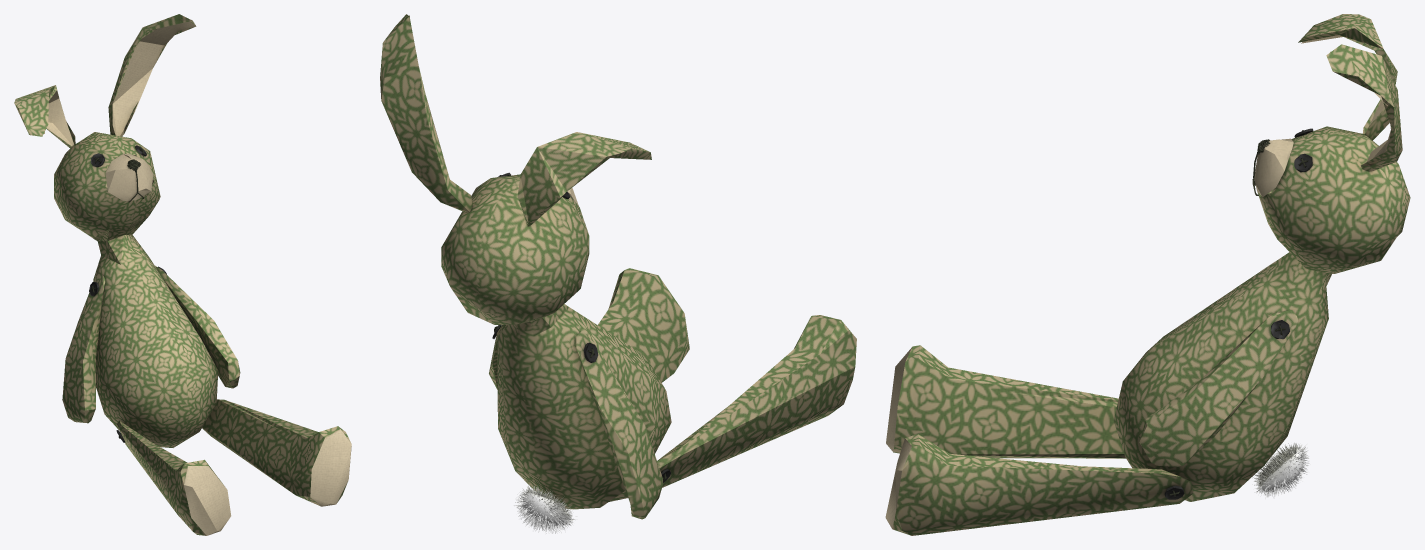
3 views of the same model, side by side, from view 1: azimuth 30°, elevation 25°; view 2: azimuth 150°, elevation 25°; view 3: azimuth 270°, elevation 25° (orthographic). The views are drawn at different scales.
Visible parts, largest first — view 1: solid_004, solid_005; view 2: solid_004, solid_002; view 3: solid_004, solid_005, solid_002, solid_003.
Boxes of the visible parts, <box> form: solid_004: <box>14,14,350,535</box>; solid_005: <box>44,19,351,535</box>; solid_004: <box>380,14,856,519</box>; solid_002: <box>514,484,577,534</box>; solid_004: <box>892,14,1410,535</box>; solid_005: <box>885,35,1391,528</box>; solid_002: <box>1253,443,1310,499</box>; solid_003: <box>1164,128,1313,499</box>.
Size of the model in its own units: 0.6533 by 1.31 by 1.25.
1 material, 1 textured.
